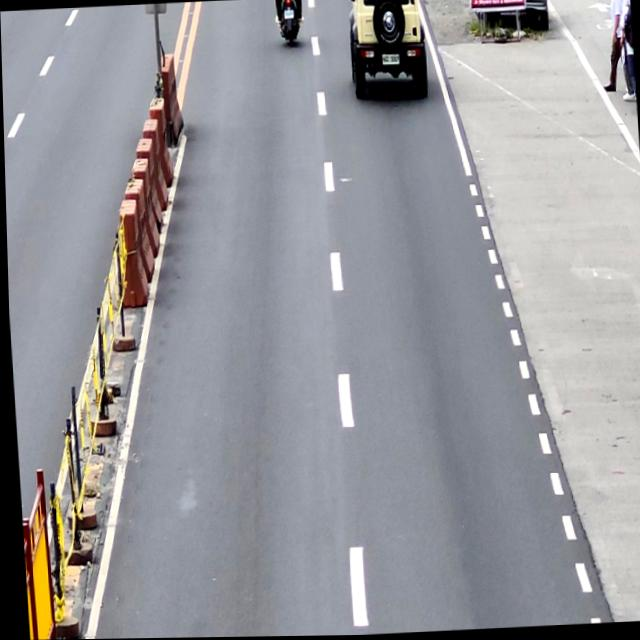Car: (341, 0, 429, 102)
License-Plate: (381, 54, 399, 67), (282, 11, 295, 20)
Motorcycle: (275, 0, 303, 48)
